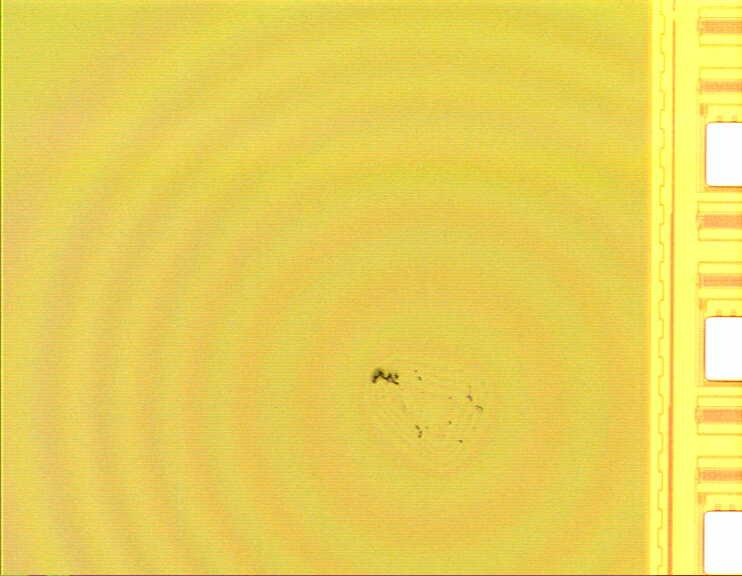PIQ PARTICLE: (368, 365, 488, 449)
